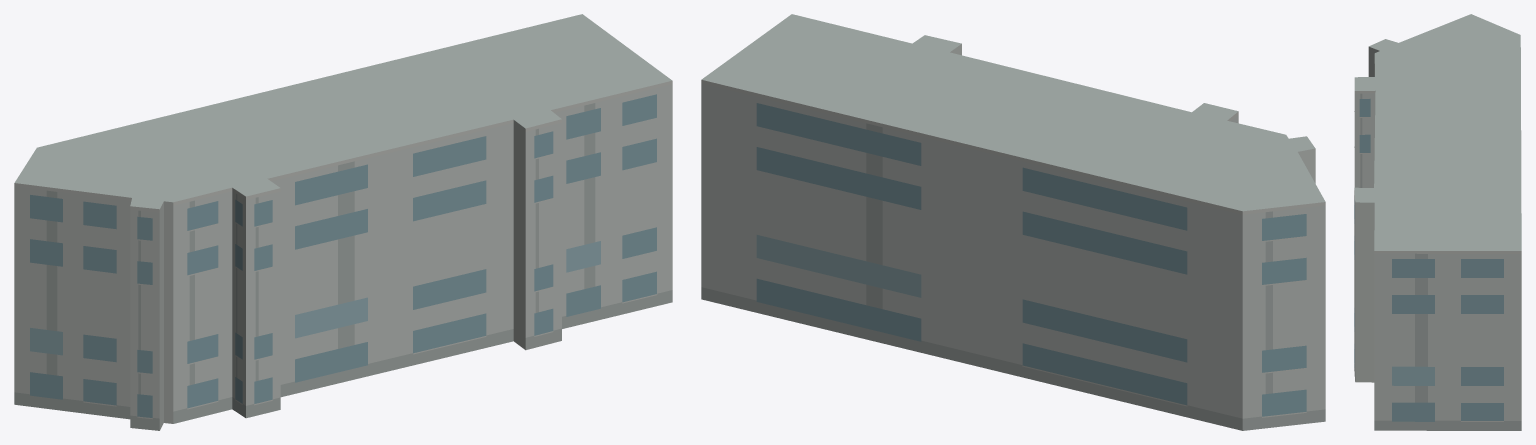
File: survey-upis-32639002.glb
The picture shows the model from 3 angles, left to right: view 1: azimuth 30°, elevation 25°; view 2: azimuth 150°, elevation 25°; view 3: azimuth 270°, elevation 25°; orthographic projection. The views are drawn at different scales.
Visible parts, largest first — view 1: survey-upis-32639002.tmp; view 2: survey-upis-32639002.tmp; view 3: survey-upis-32639002.tmp.
Boxes of the visible parts, left/top/right/bottom form: survey-upis-32639002.tmp: left=14, top=14, right=672, bottom=430; survey-upis-32639002.tmp: left=701, top=14, right=1325, bottom=430; survey-upis-32639002.tmp: left=1354, top=14, right=1521, bottom=430.
Size of the model in its own units: 43.14 by 15.25 by 12.87.
